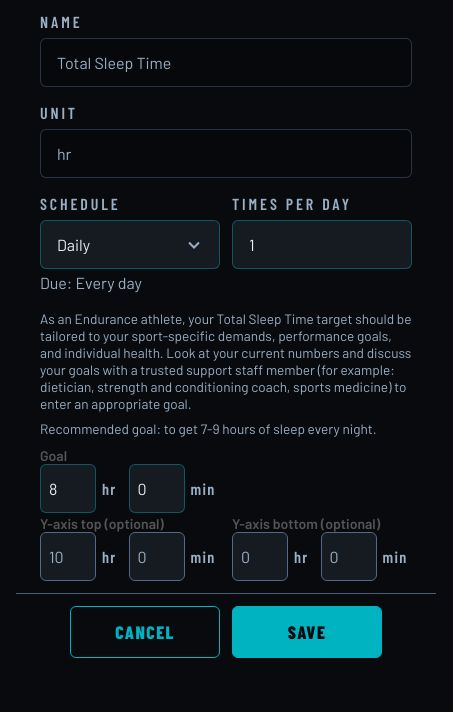
Test: MetricOverrideForm — time metric › blocks Save while a time field holds an invalid entry
The width and height of the screenshot is (453, 712).
Replace the text in the field named "Goal Total Sleep Time min" with "40" at point(157, 488), box x1=129 y1=464 x2=185 y2=513
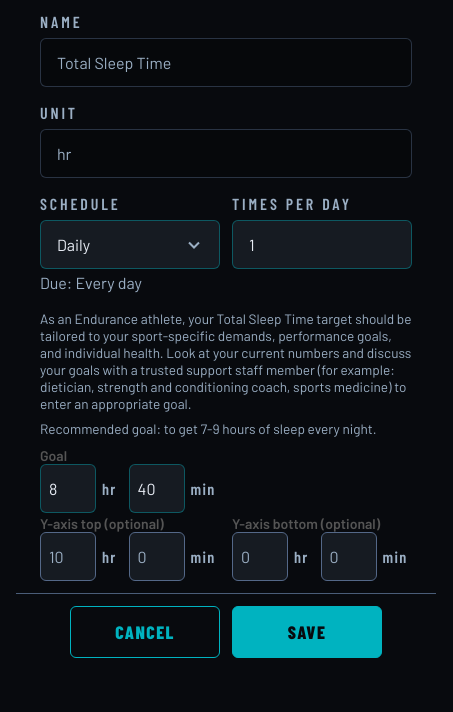
Replace the text in the field named "Goal Total Sleep Time hr" with "8.5" at point(68, 488), box x1=40 y1=464 x2=96 y2=513
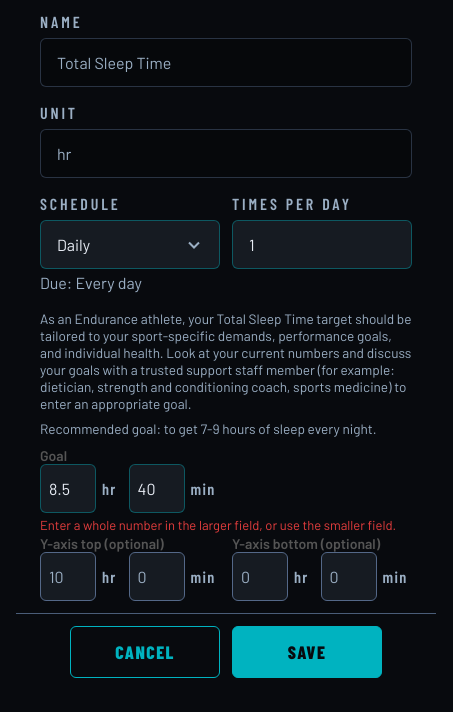
Click the button "Save".
click(307, 652)  # box x1=232 y1=626 x2=382 y2=678
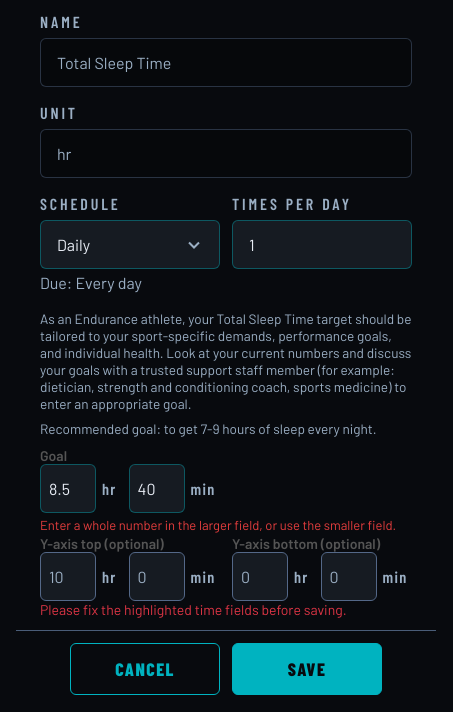
Result: the text "Please fix the highlighted time fields before saving." is shown at x1=40 y1=601 x2=347 y2=618
